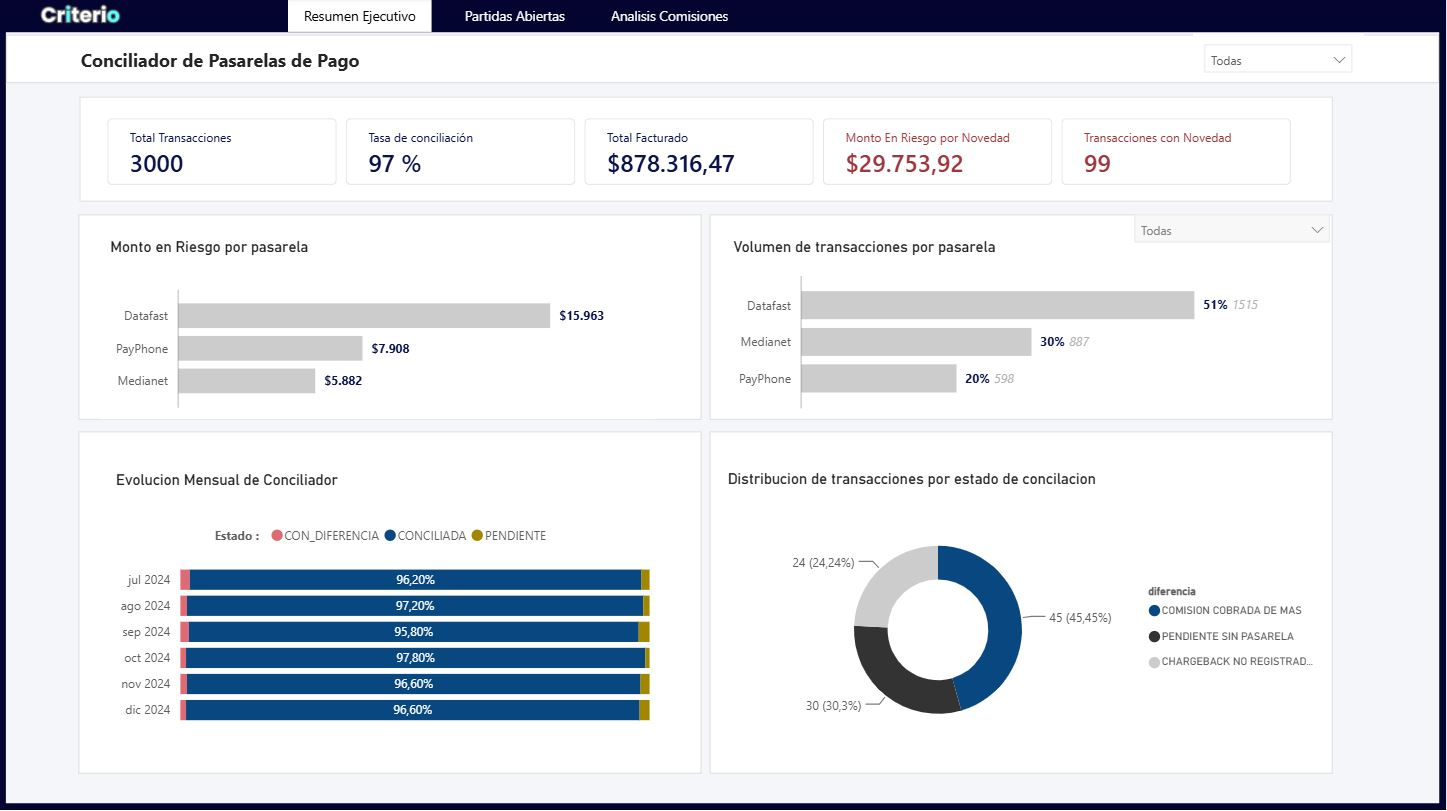

The page's visual inventory and layout, read from the dashboard file:
{"tool":"powerbi","page":{"name":"Resumen Ejecutivo","canvas":[1280,720],"ordinal":0},"visuals":[{"type":"cardVisual","fields":{"Data":["_Medidas.Total Transacciones"]},"box":[279,501,240,146],"z":0},{"type":"cardVisual","fields":{"Data":["_Medidas.Total Transacciones","_Medidas.Tasa Conciliacion %","_Medidas.Monto Total Procesado","_Medidas.Monto En Riesgo","_Medidas.Total Novedad"]},"box":[80,89,1085,93],"z":1000},{"type":"cardVisual","fields":{"Data":["_Medidas.Total Pendientes"]},"box":[254,501,240,147],"z":2000},{"type":"barChart","title":"Monto en Riesgo por pasarela","fields":{"Category":["reconciliation_output.gateway"],"Y":["_Medidas.Monto En Riesgo"]},"box":[89.4,202.3,492.3,169.8],"z":3000},{"type":"donutChart","title":"Distribucion de transacciones por estado de concilacion","fields":{"Y":["_Medidas.Total Transacciones"],"Category":["tipo_diferencia.diferencia"]},"box":[640.5,412.8,542,247.5],"z":4000},{"type":"hundredPercentStackedBarChart","title":"Evolucion Mensual de Conciliador","fields":{"Category":["Calendario.Mes-Año"],"Y":["_Medidas.Total Transacciones"],"Series":["reconciliation_output.estado_conciliacion"]},"box":[89.4,403.7,502.3,259.9],"z":5000},{"type":"pageNavigator","box":[256.5,0,402.9,30.7],"z":6000},{"type":"textbox","box":[68,39,422,37],"z":7000},{"type":"clusteredBarChart","fields":{"Category":["reconciliation_output.gateway"],"Y":["_Medidas.Total Transacciones"]},"box":[640,202.4,493.1,169.5],"z":8000},{"type":"slicer","fields":{"Values":["tipo_diferencia.diferencia"]},"box":[995.5,181.6,193.3,41.6],"z":9000},{"type":"slicer","fields":{"Values":["Calendario.Mes-Año"]},"box":[1057,31,151,42],"z":10000}]}

Visuals, with their boxes on the page's 1280x720 design canvas (x1, y1, x2, y2). These are canvas units, not pixel positions in the 1447x811 screenshot, which may show the page scaled, cropped or inside an application window:
cardVisual - _Medidas.Total Transacciones: [279,501,519,647]
cardVisual - _Medidas.Total Transacciones x _Medidas.Tasa Conciliacion %: [80,89,1165,182]
cardVisual - _Medidas.Total Pendientes: [254,501,494,648]
"Monto en Riesgo por pasarela" barChart: [89,202,582,372]
"Distribucion de transacciones por estado de concilacion" donutChart: [640,413,1182,660]
"Evolucion Mensual de Conciliador" hundredPercentStackedBarChart: [89,404,592,664]
pageNavigator: [256,0,659,31]
textbox: [68,39,490,76]
clusteredBarChart - reconciliation_output.gateway x _Medidas.Total Transacciones: [640,202,1133,372]
slicer - tipo_diferencia.diferencia: [996,182,1189,223]
slicer - Calendario.Mes-Año: [1057,31,1208,73]
